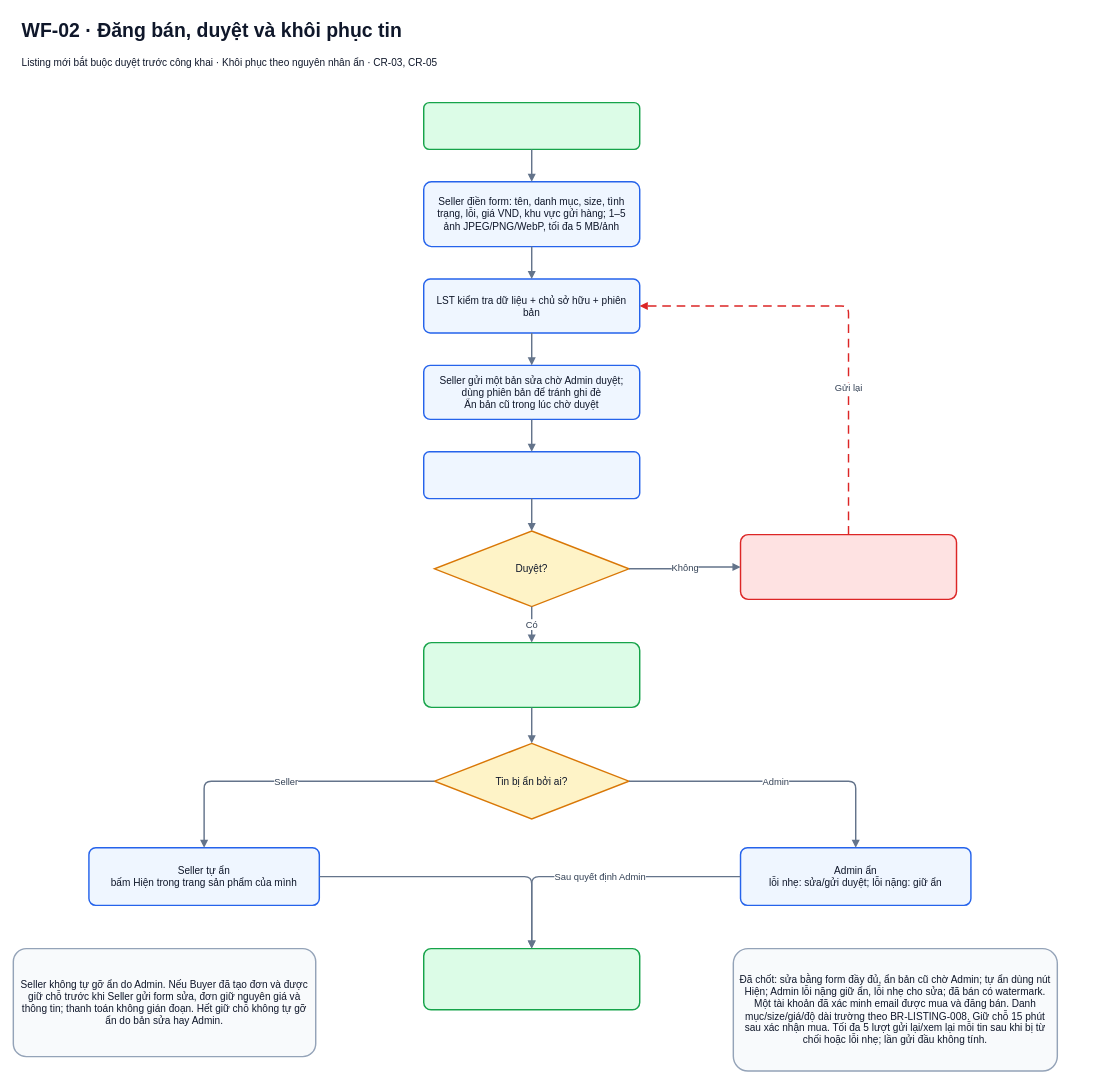
Some shapes in this 1112 by 1084 pixel diagram are drawn without their labels. The shapes that lost their labels are listed below. From the top down, each one's centre as x and y in pixels, then its label:
point 531,126: Tài khoản đã xác minh email tạo / sửa listing cho 1 món
point 531,475: Admin xem đúng phiên bản đã gửi
point 848,567: Từ chối + lý do Seller sửa form và gửi lại (tối đa 5 lượt)
point 531,675: LST công khai phiên bản đã duyệt DISC bắt đầu hiển thị
point 531,979: Khôi phục theo nguyên nhân; món đã bán có watermark, không cho sửa hoặc mua
